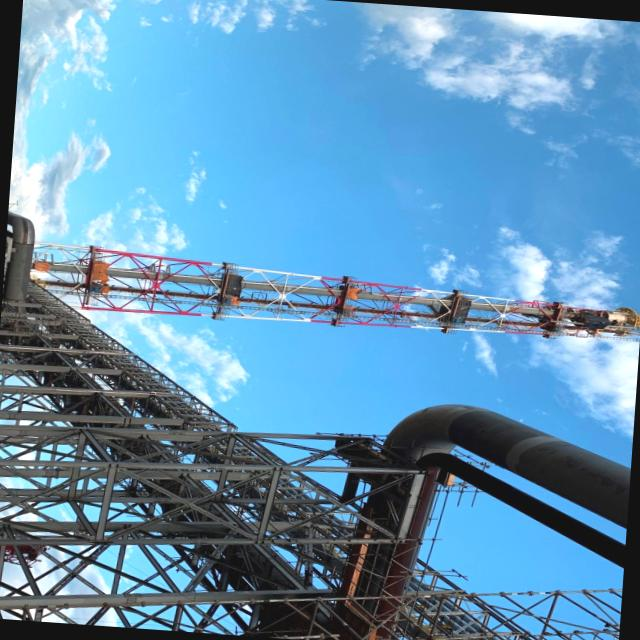gas: (376, 401, 630, 531), (5, 210, 32, 298)
